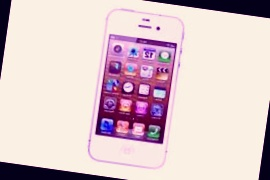iphone: (94, 11, 175, 166)
